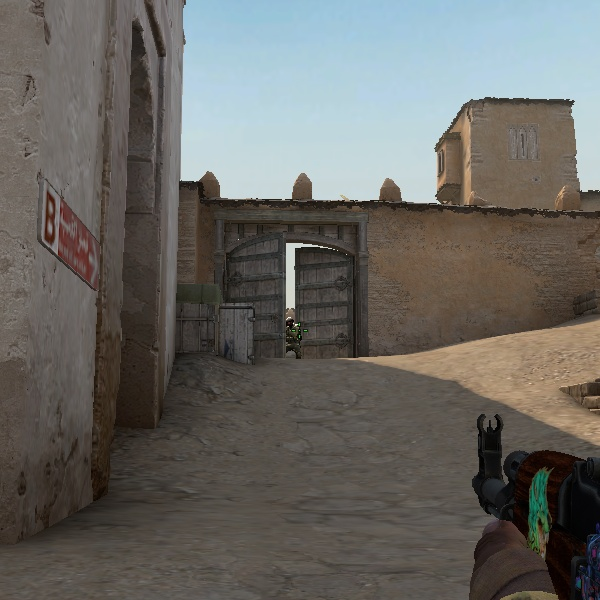ct_body: (278, 315, 302, 359)
